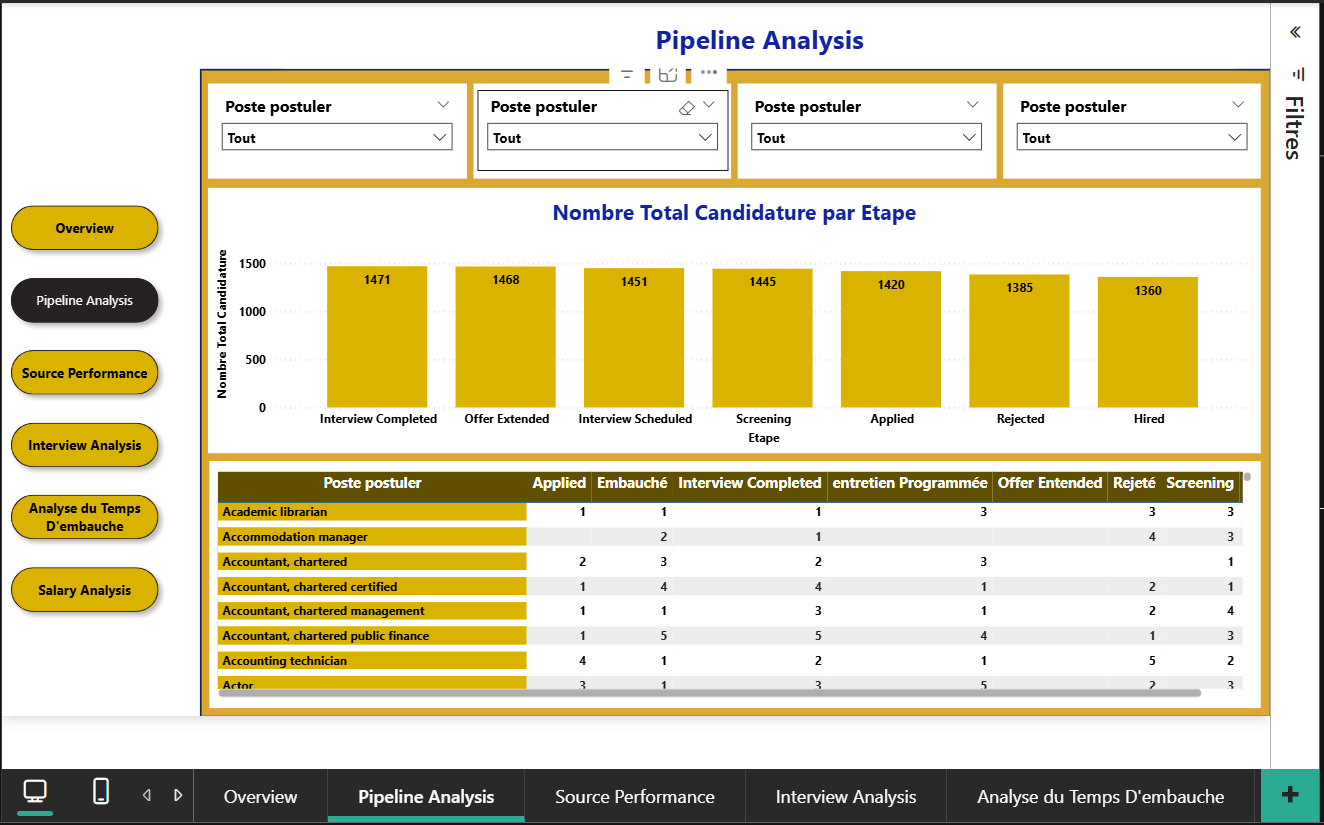

What the dashboard file says about the page in this screenshot:
{"tool":"powerbi","page":{"name":"Pipeline Analysis","canvas":[1280,720],"ordinal":1},"visuals":[{"type":"slicer","fields":{"Values":["Sheet1.Poste postuler"]},"box":[212.5,87.9,252.4,81.5],"z":0},{"type":"slicer","fields":{"Values":["Sheet1.Poste postuler"]},"box":[479.8,87.9,252.4,81.5],"z":1000},{"type":"slicer","fields":{"Values":["Sheet1.Poste postuler"]},"box":[747.2,87.9,252.4,81.5],"z":2000},{"type":"slicer","fields":{"Values":["Sheet1.Poste postuler"]},"box":[1014.5,87.9,252.4,81.5],"z":3000},{"type":"clusteredColumnChart","fields":{"Y":["Mesures.Nombre Total Candidature"],"Category":["Sheet1.Etape"]},"box":[212.5,194.9,1054.5,255.6],"z":4000},{"type":"tableEx","fields":{"Values":["Sheet1.Poste postuler","Mesures.Nombre Candidat Applied","Mesures.Nombre Candidats Embauché","Mesures.Nombre Candidat Interview Completed","Mesures.Nombre d'entretien Programmée","Mesures.Nombre Candidat Offer Entended","Mesures.Nombre Candidat Rejeté","Mesures.Nombre Candidat Screening","Mesures.Nombre Total Candidature"]},"box":[212.5,468.1,1054.5,238.1],"z":5000},{"type":"pageNavigator","box":[0,194.9,167.8,432],"z":5001},{"type":"textbox","box":[282.8,12.8,963.4,54.3],"z":5002}]}

Visuals, with their boxes on the page's 1280x720 design canvas (x1, y1, x2, y2). These are canvas units, not pixel positions in the 1324x825 screenshot, which may show the page scaled, cropped or inside an application window:
slicer - Sheet1.Poste postuler: locate(212, 88, 465, 169)
slicer - Sheet1.Poste postuler: locate(480, 88, 732, 169)
slicer - Sheet1.Poste postuler: locate(747, 88, 1000, 169)
slicer - Sheet1.Poste postuler: locate(1014, 88, 1267, 169)
clusteredColumnChart - Mesures.Nombre Total Candidature x Sheet1.Etape: locate(212, 195, 1267, 450)
tableEx - Sheet1.Poste postuler x Mesures.Nombre Candidat Applied: locate(212, 468, 1267, 706)
pageNavigator: locate(0, 195, 168, 627)
textbox: locate(283, 13, 1246, 67)
